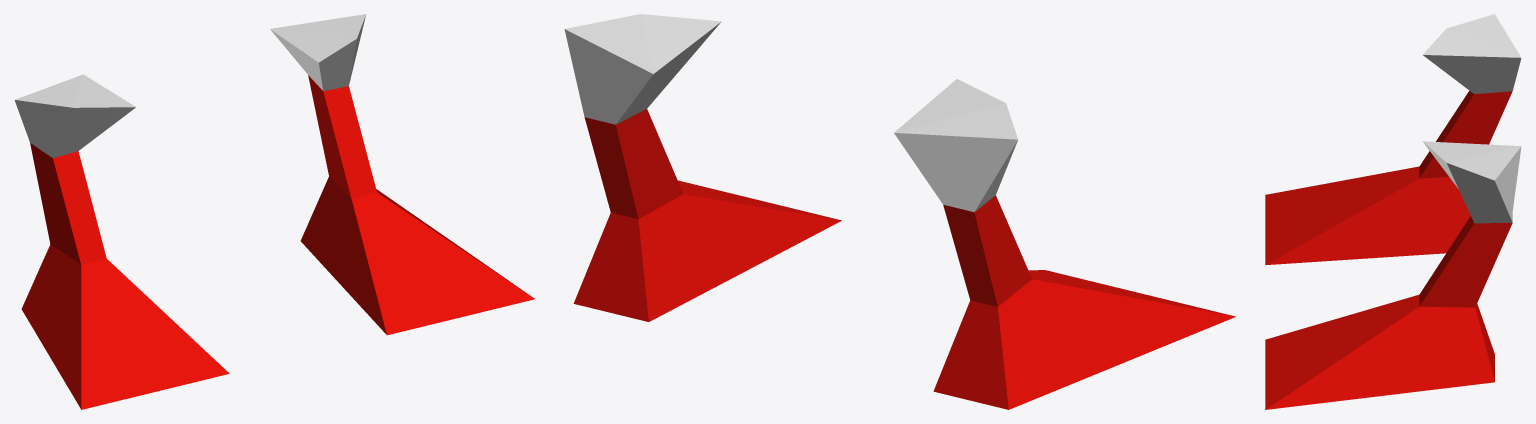
File: Bird_Feet.fbx
3 renders of one model, left to right at view 1: azimuth 30°, elevation 25°; view 2: azimuth 150°, elevation 25°; view 3: azimuth 270°, elevation 25°, orthographic. The views are drawn at different scales.
Parts seen in each view (by area): view 1: Bird_Feet; view 2: Bird_Feet; view 3: Bird_Feet.
Boxes of the visible parts, left/top/right/bottom form: Bird_Feet: left=14, top=14, right=534, bottom=409; Bird_Feet: left=564, top=14, right=1235, bottom=409; Bird_Feet: left=1265, top=14, right=1521, bottom=409.
Bounding box in the file's own units: 15.98 × 7.16 × 8.04.
